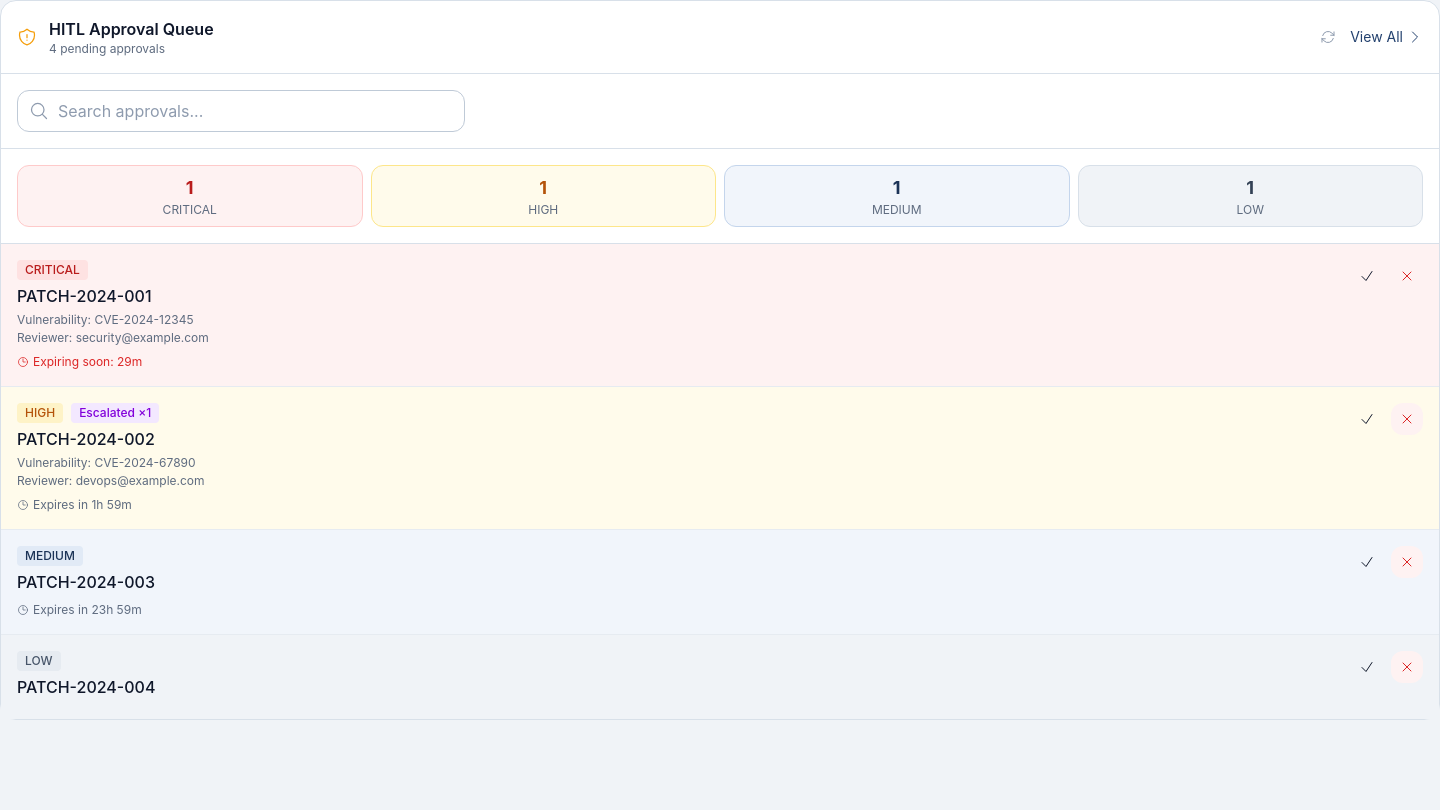
Test: ApprovalQueueWidget › Reject Action › removes item from list after rejection
Expected: the text "PATCH-2024-001" is shown, [17,286,152,306]
Click the button titled "Reject" in the row of "PATCH-2024-001". click: [1407, 276]
box: [1391,260,1423,292]
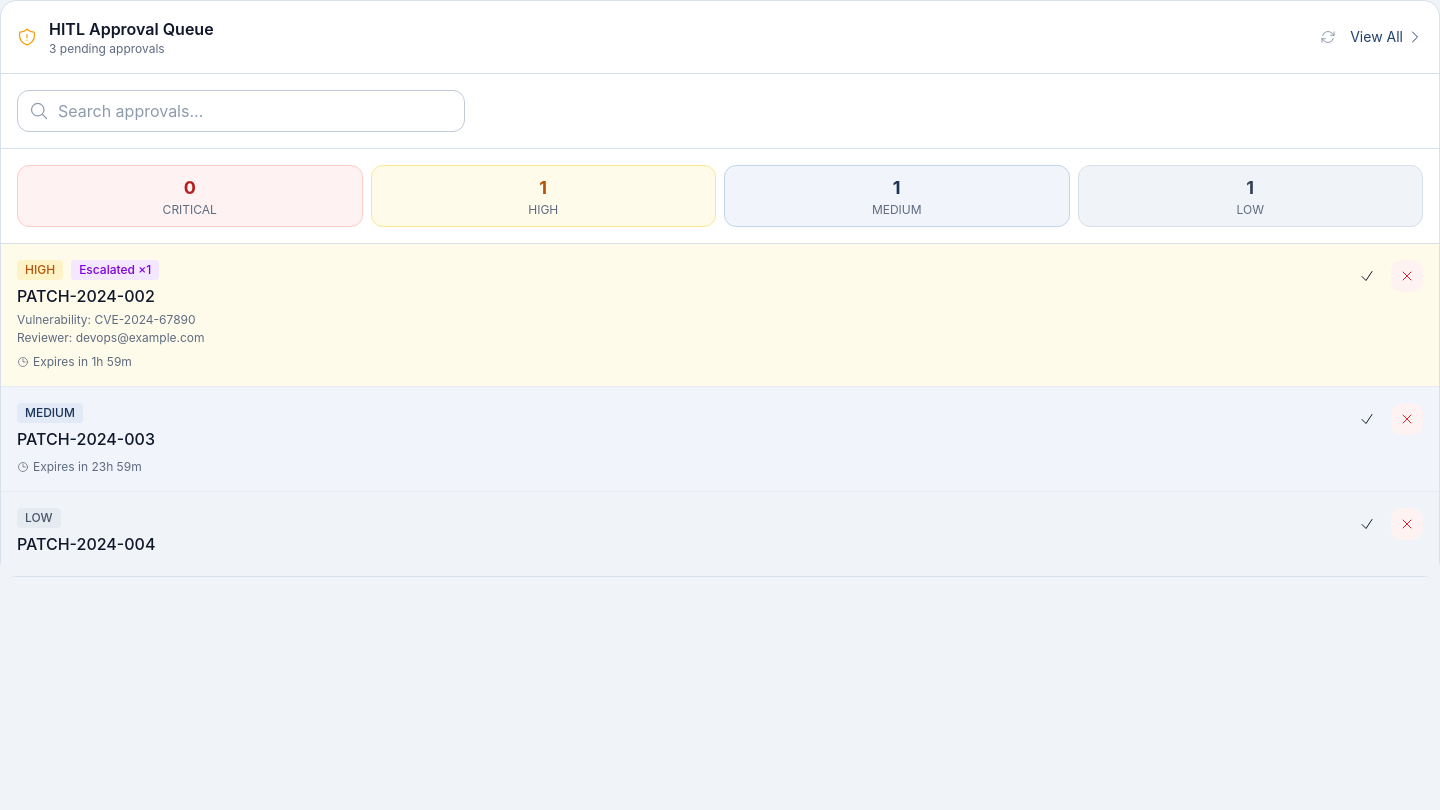
Now the text "PATCH-2024-001" is gone
